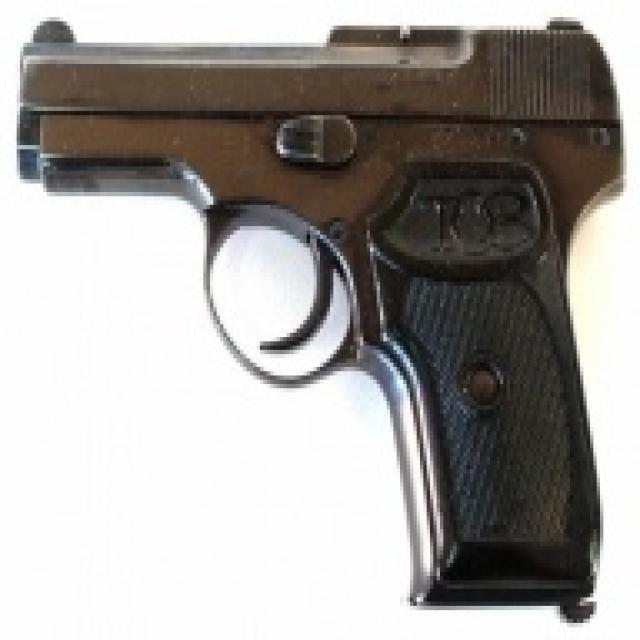pistol: (8, 8, 629, 633)
